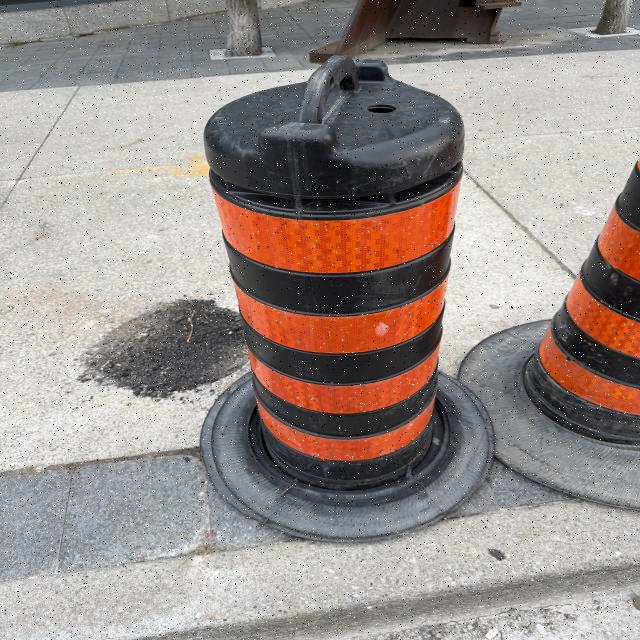Teraffic Barrel: (202, 56, 493, 541), (459, 163, 640, 509)
